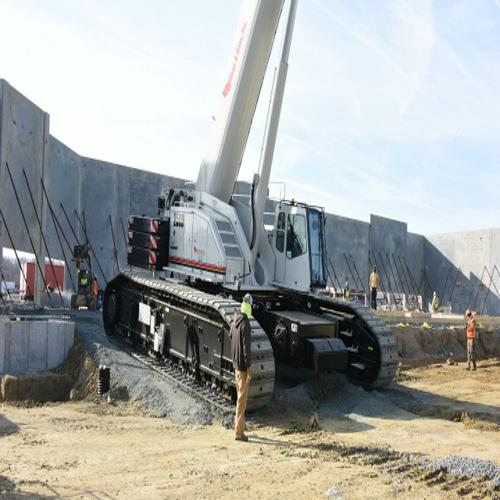con_eq: (98, 1, 398, 407)
